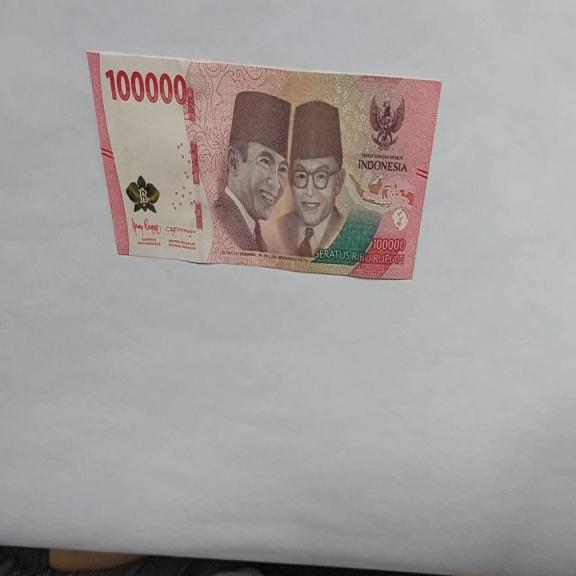Kertas: (86, 49, 443, 280), (104, 66, 188, 106)
